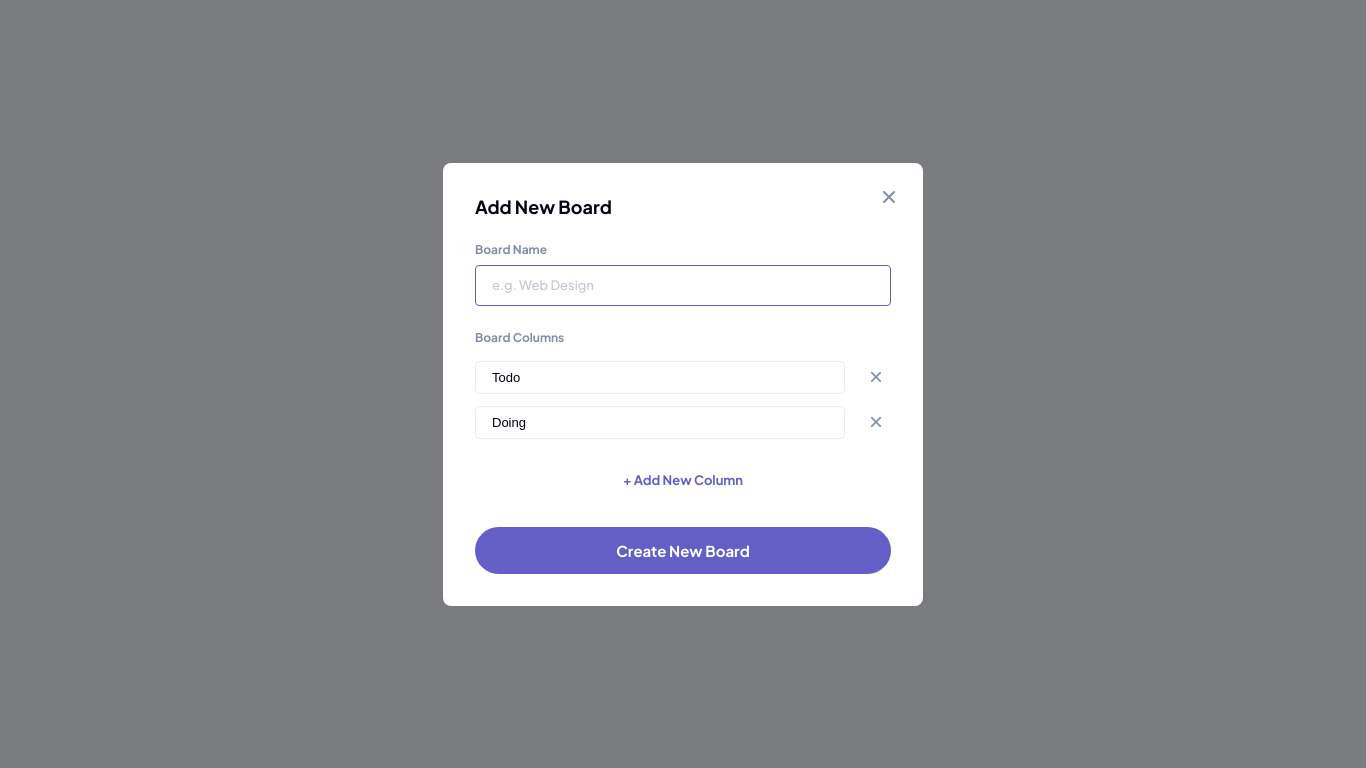
Test case: AddBoardModal › adds a column row without submitting the form
Type "Sprint Board" into the field with placeholder "e.g. Web Design".
click(683, 285); type("Sprint Board")  # box 475,264 -> 891,306
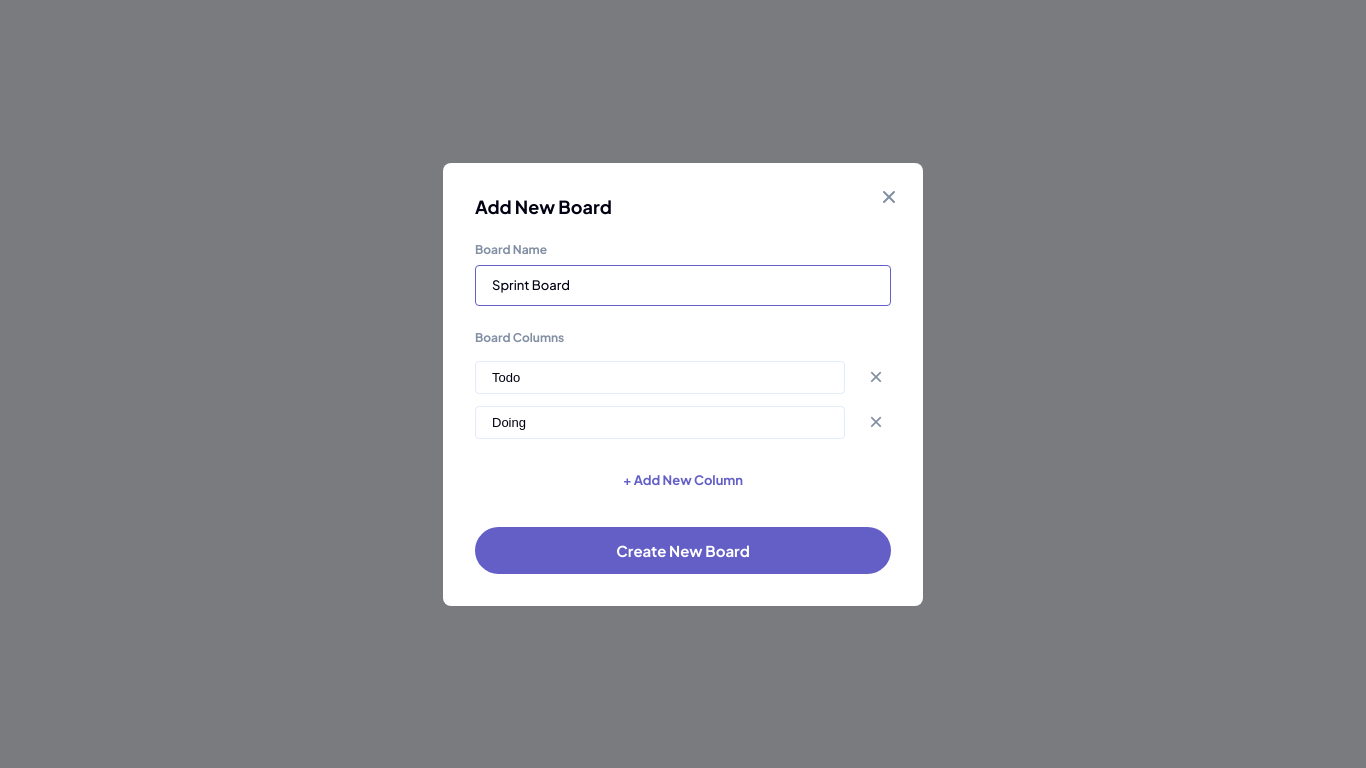
Click the button "+ Add New Column".
click(683, 480)  # box 475,458 -> 891,502
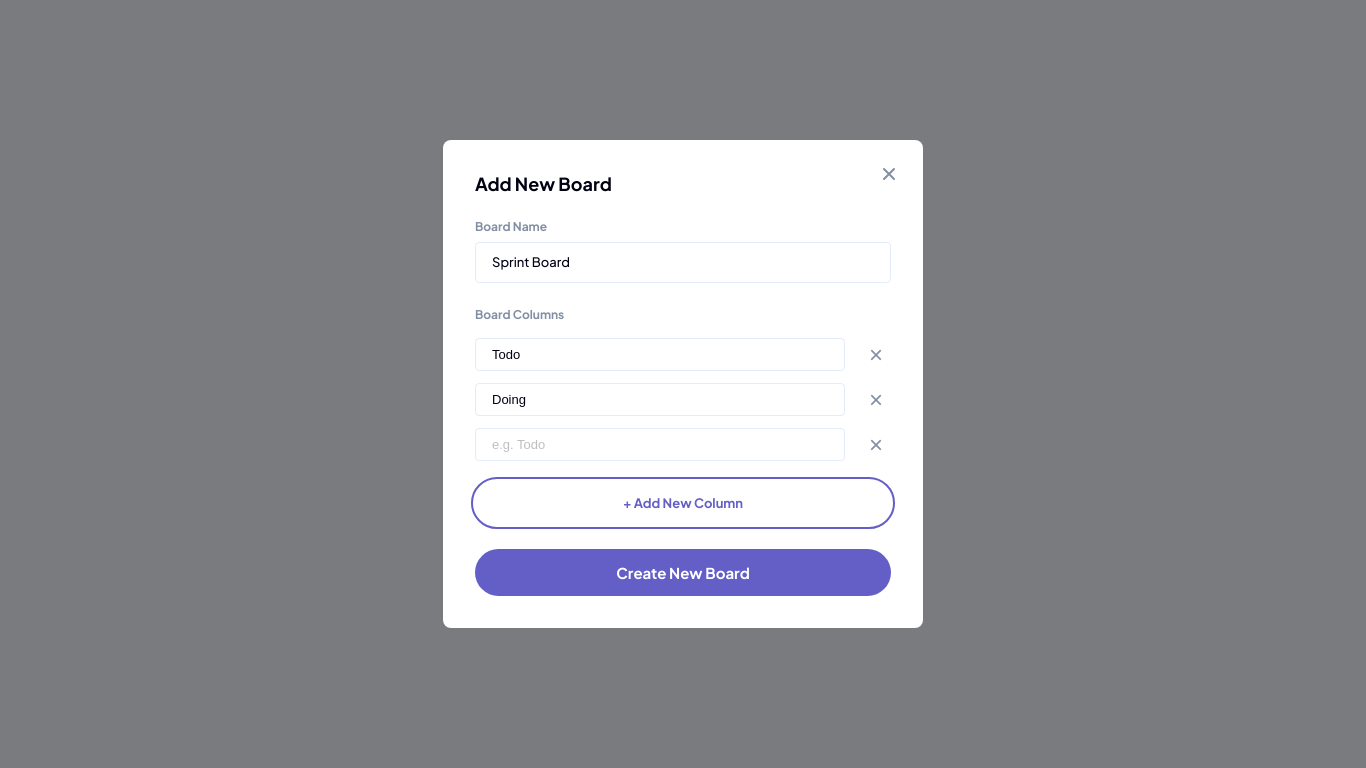
Now the number of fields with placeholder "e.g. Todo" is 3, box 475,338 -> 845,371; 475,383 -> 845,416; 475,428 -> 845,461
